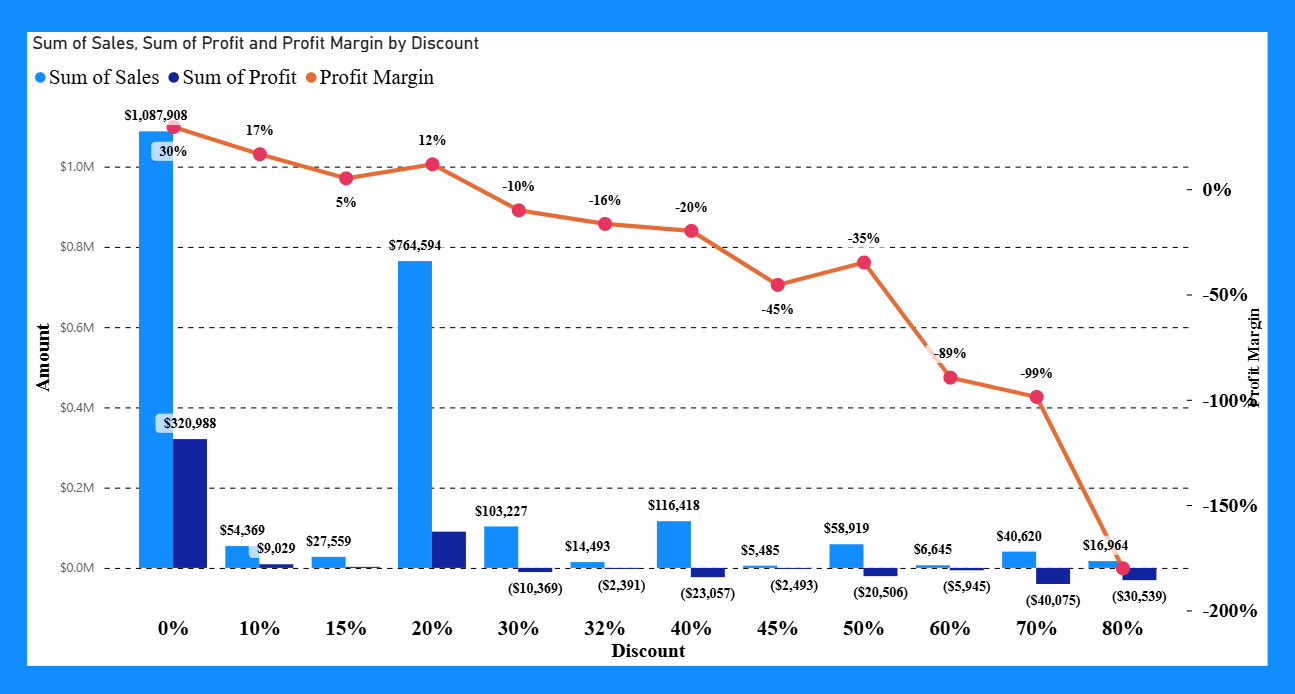

What the dashboard file says about the page in this screenshot:
{"tool":"powerbi","page":{"name":"Page 7","canvas":[1280,720],"ordinal":6},"visuals":[{"type":"lineClusteredColumnComboChart","fields":{"Category":["Superstore sales dataset.Discount"],"Y":["Sum(Superstore sales dataset.Sales)","Sum(Superstore sales dataset.Profit)"],"Y2":["Superstore sales dataset.Profit Margin"]},"box":[46.5,46.5,1184.5,605.6],"z":0}]}

Visuals, with their boxes on the page's 1280x720 design canvas (x1, y1, x2, y2). These are canvas units, not pixel positions in the 1295x694 screenshot, which may show the page scaled, cropped or inside an application window:
lineClusteredColumnComboChart - Superstore sales dataset.Discount x Sum(Superstore sales dataset.Sales): [x1=46, y1=46, x2=1231, y2=652]
